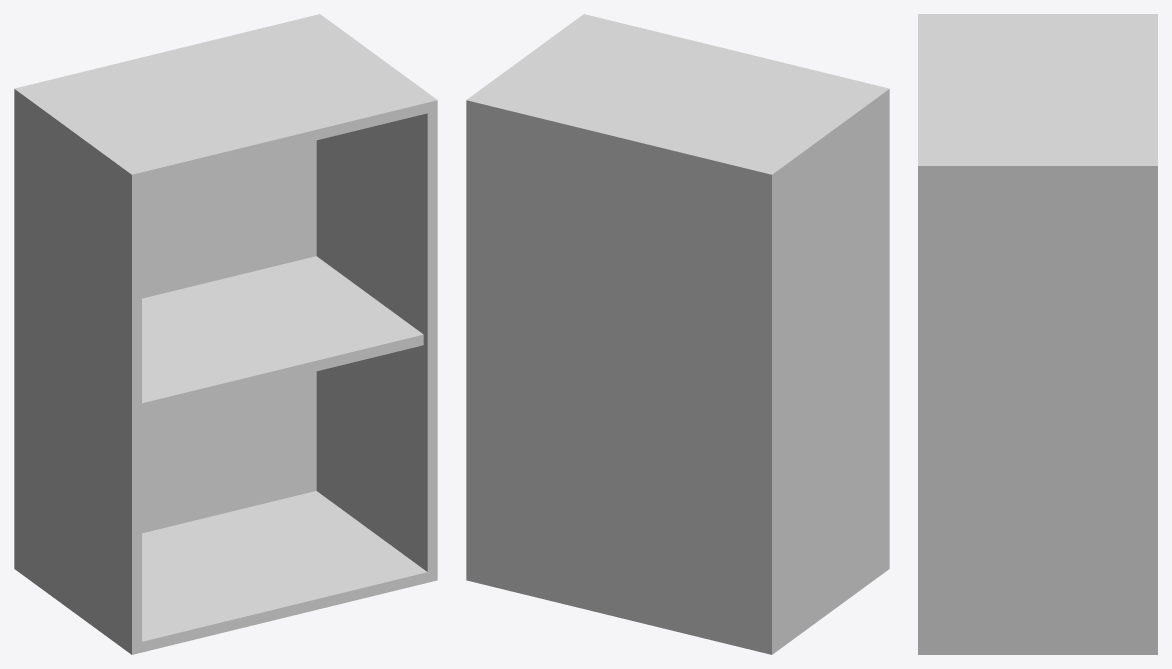
The model's file is Kitchen1_C1_08.fbx.
3 views of the same model, side by side, from view 1: azimuth 30°, elevation 25°; view 2: azimuth 150°, elevation 25°; view 3: azimuth 270°, elevation 25° (orthographic).
Visible parts, largest first — view 1: Kitchen1_C1_08; view 2: Kitchen1_C1_08; view 3: Kitchen1_C1_08.
Boxes of the visible parts, x1,y1,x2,y2 form: Kitchen1_C1_08: (14,14,437,654); Kitchen1_C1_08: (466,14,889,654); Kitchen1_C1_08: (918,14,1157,654).
Size of the model in its own units: 60 by 90 by 40.
